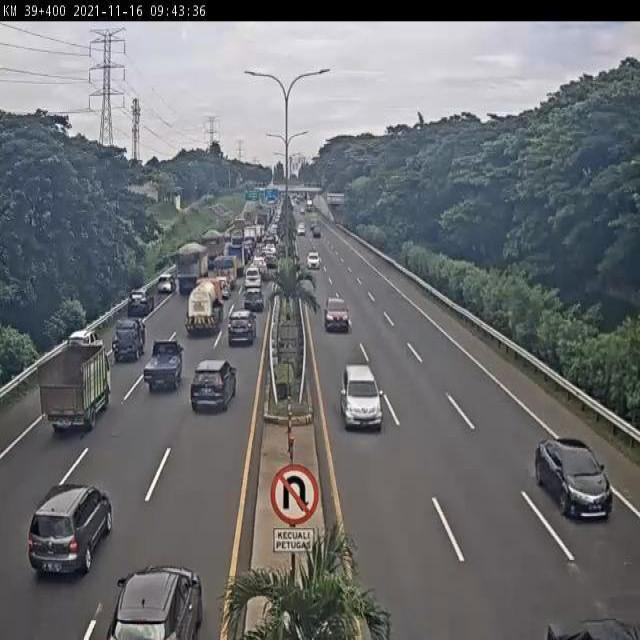car: (28, 468, 114, 579), (534, 428, 617, 524), (107, 561, 205, 640), (338, 360, 388, 431), (192, 353, 239, 415), (142, 334, 185, 394), (109, 313, 143, 360), (227, 308, 260, 351), (322, 295, 354, 336), (123, 284, 156, 312), (242, 287, 265, 313), (156, 272, 177, 297), (245, 264, 263, 291), (213, 274, 233, 298), (305, 247, 322, 270), (250, 255, 268, 276), (264, 251, 280, 268), (312, 224, 322, 239), (296, 223, 306, 236)
small truck: (33, 335, 112, 432), (215, 258, 238, 290), (226, 244, 246, 276)
truck-m-: (171, 240, 213, 299), (188, 275, 225, 337), (197, 227, 229, 269)
